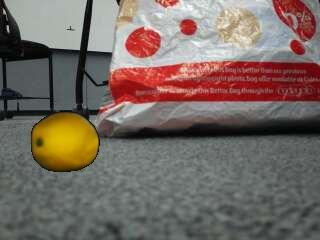lemon: (31, 113, 99, 172)
